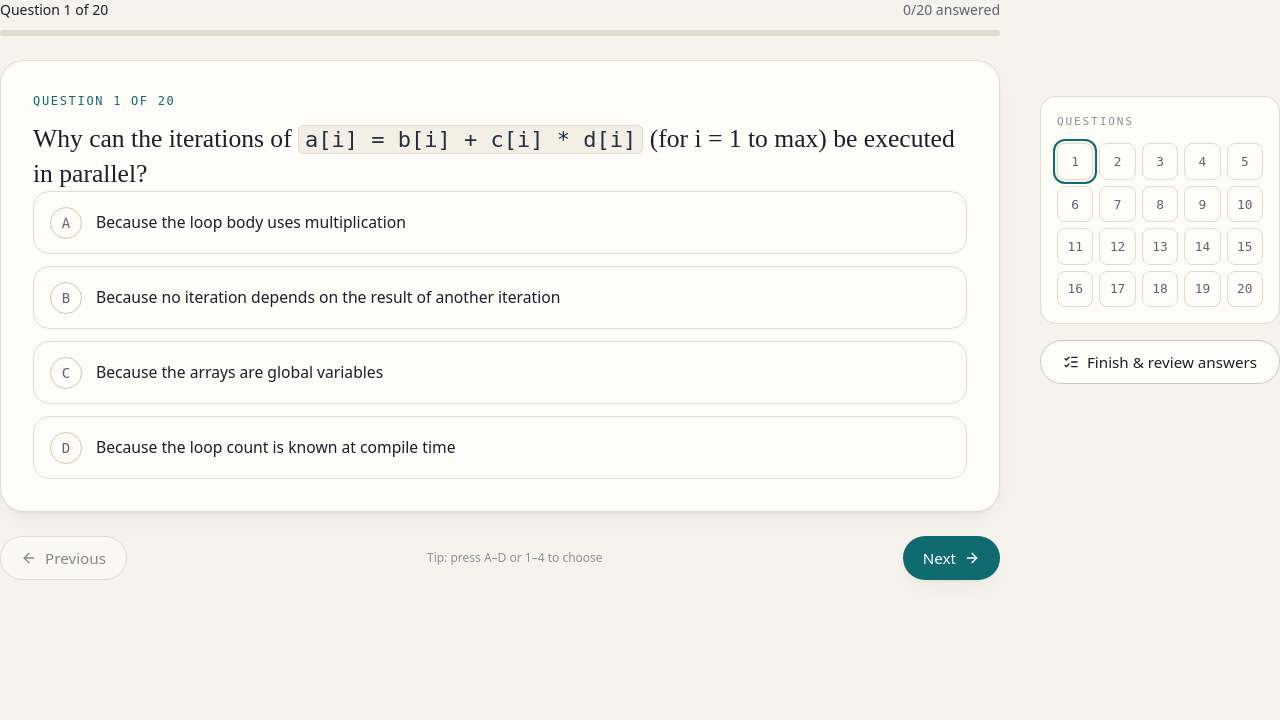
Test case: QuizRunner › filters the review to missed questions and supports retry
Click the 2nd radio button at (500, 298), box [33,266,967,329]
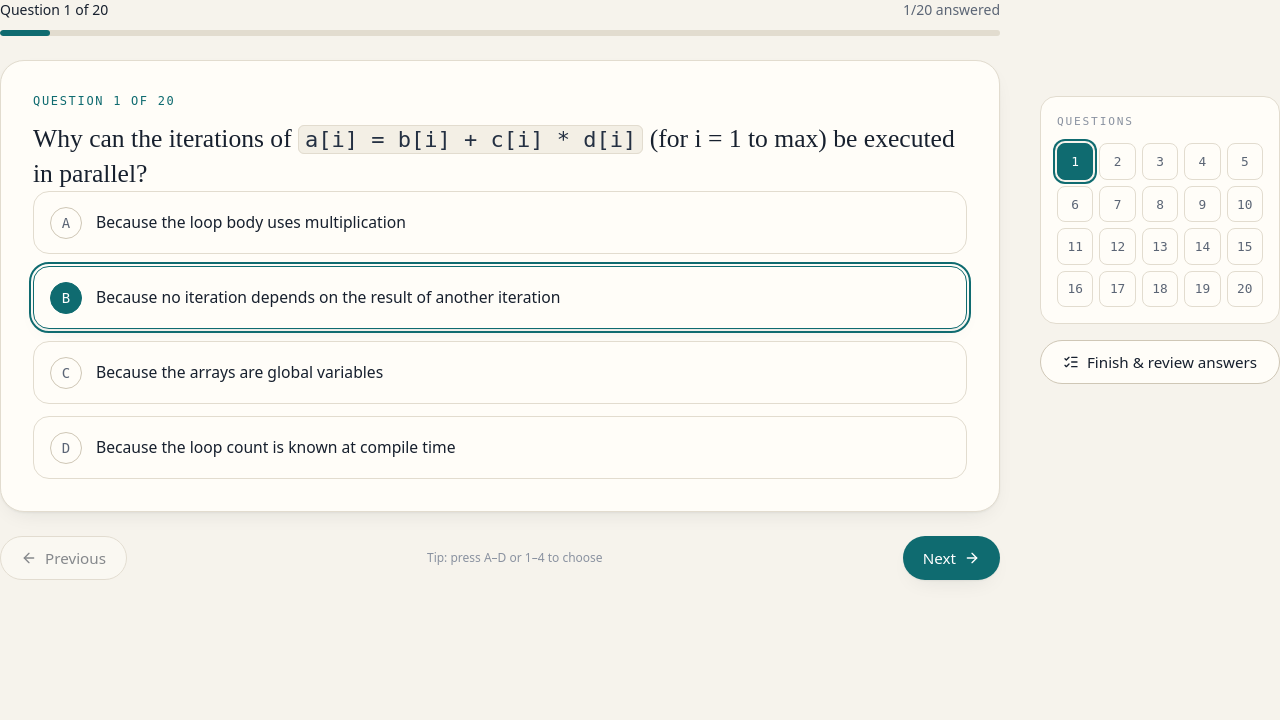
Click the button "Finish & review answers" at (1160, 362), box [1040,340,1279,384]
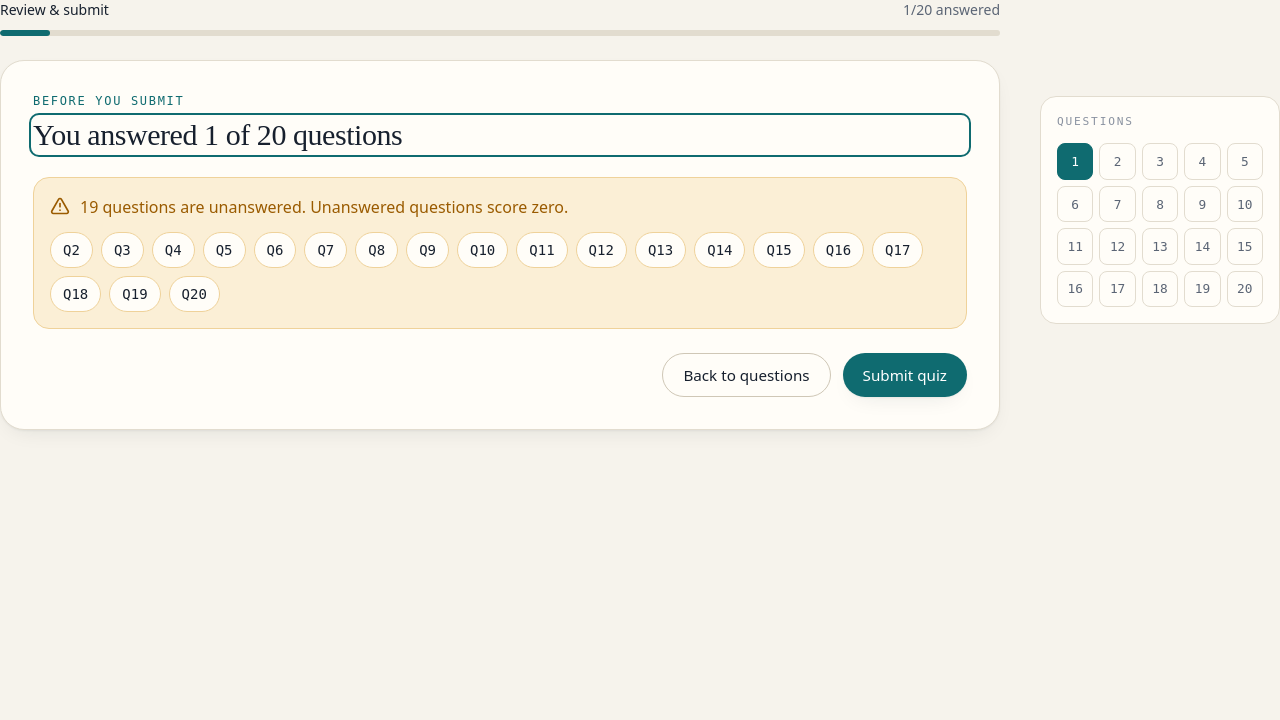
Click the button "Submit quiz" at (905, 375), box [843,353,967,397]
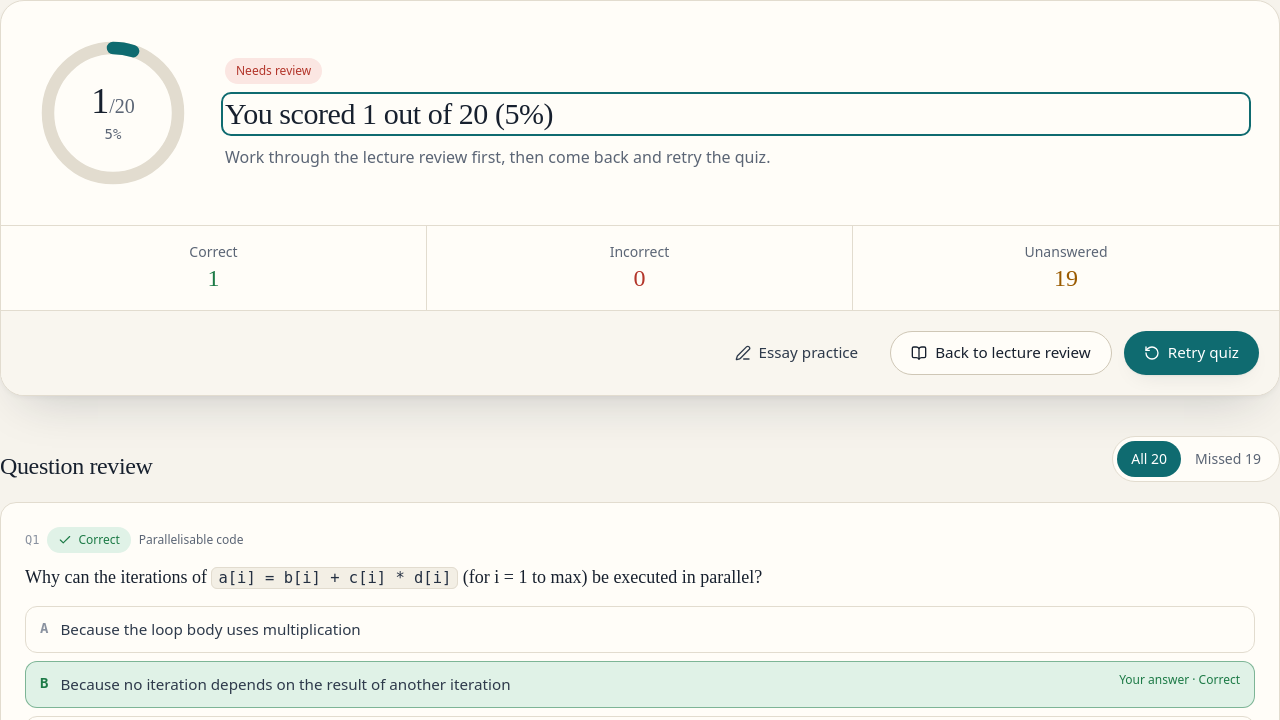
Click the button "Missed 19" at (1228, 459), box [1181,441,1275,477]
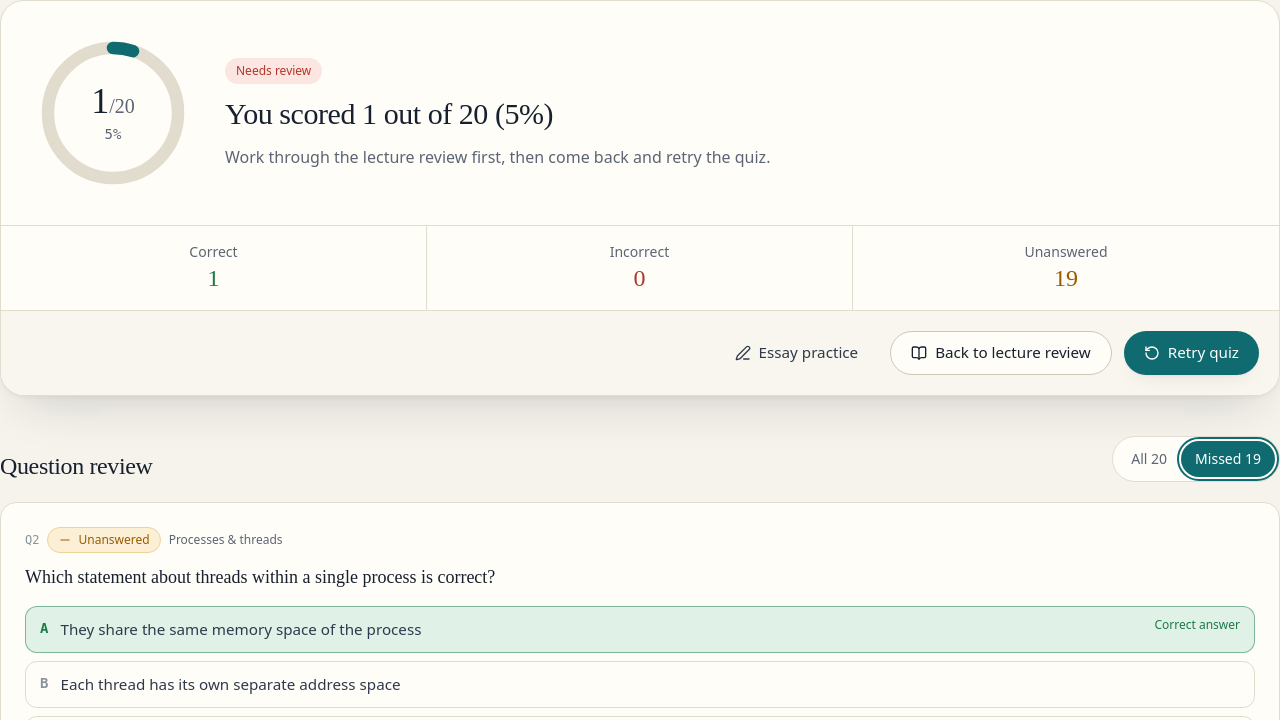
Click the button "Retry quiz" at (1191, 353), box [1124,331,1259,375]
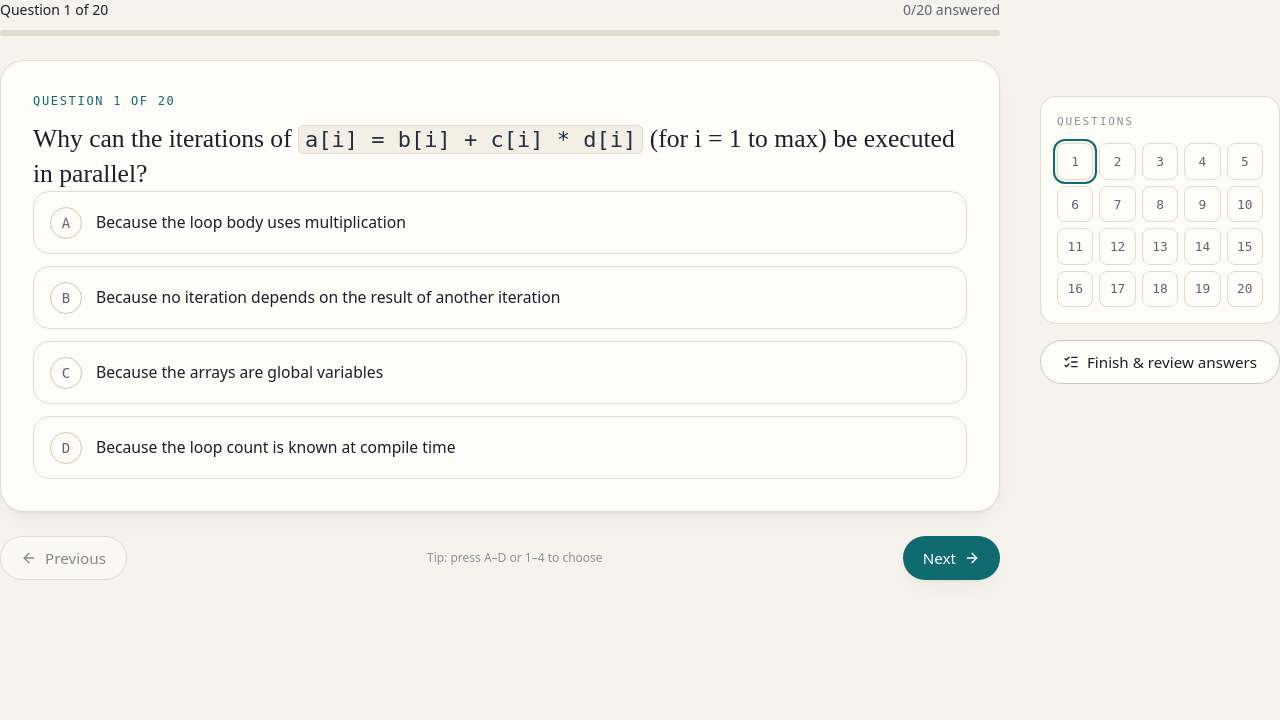
expect the text "0/20 answered" is shown: met, box [903,0,1000,20]
expect the text "Question 1 of 20" in the row of "answered" is shown: met, box [0,0,108,19]
